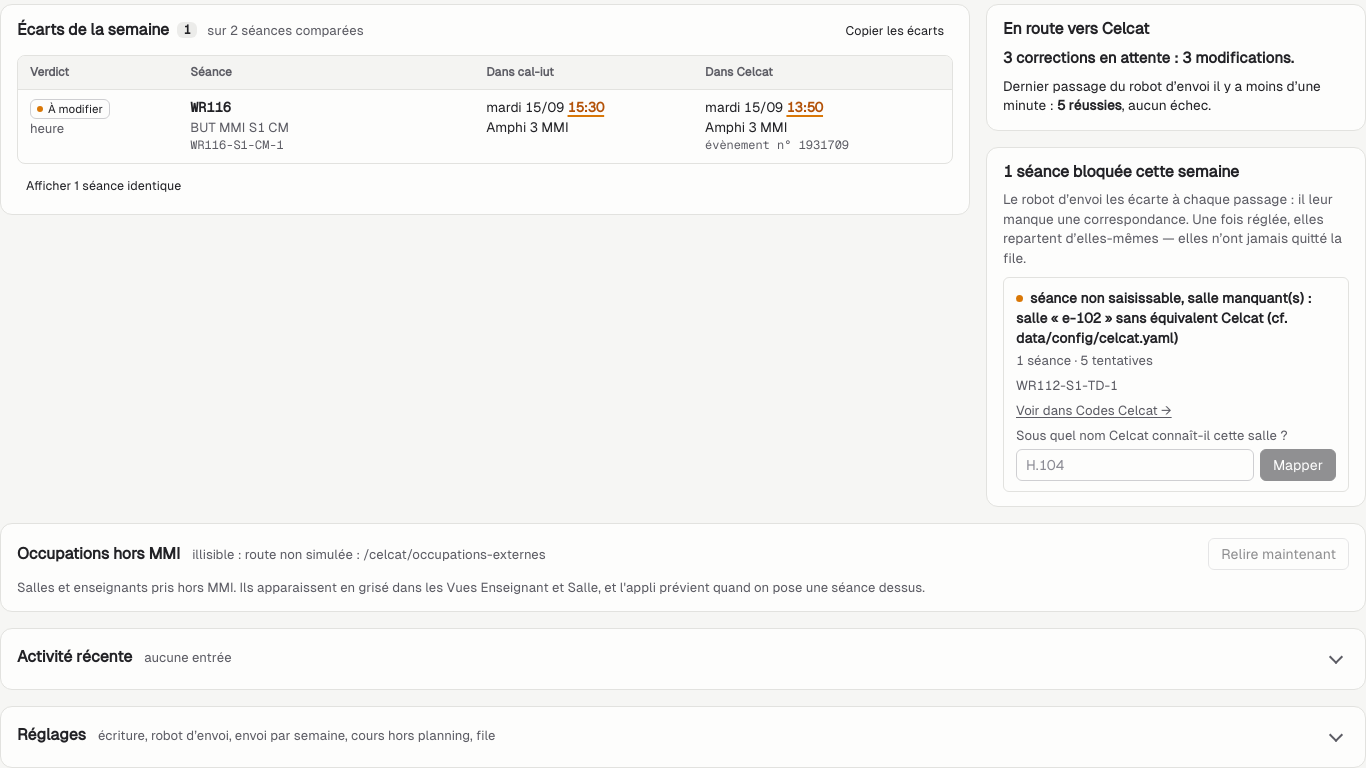
Test: Mapper une correspondance Celcat › montre l'erreur du serveur et laisse le blocage en place s'il refuse
(page scrolled)
Type "?!!" into the field named "équivalent celcat de e-102" at {"x": 1135, "y": 465}, box [1016,449,1254,481]
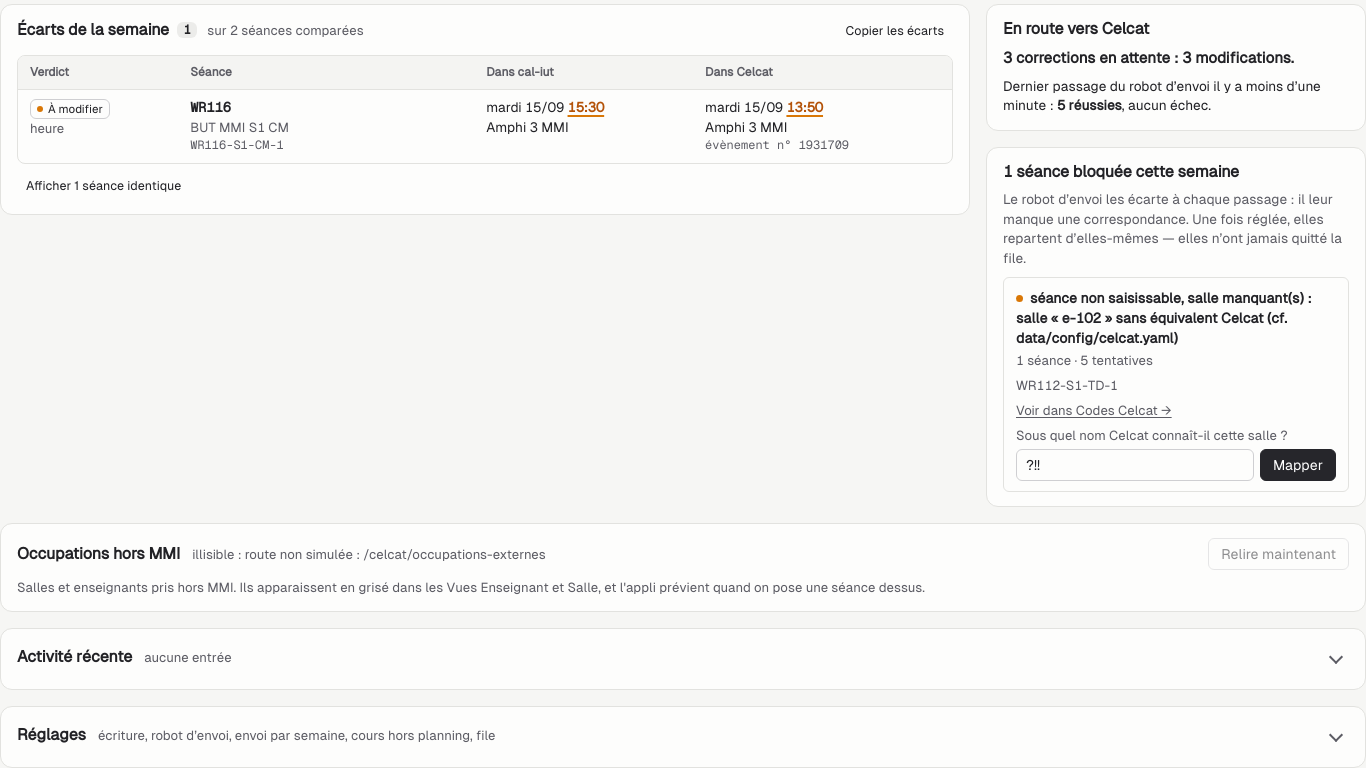
Click the button "Mapper" at {"x": 1298, "y": 465}, box [1260,449,1336,481]
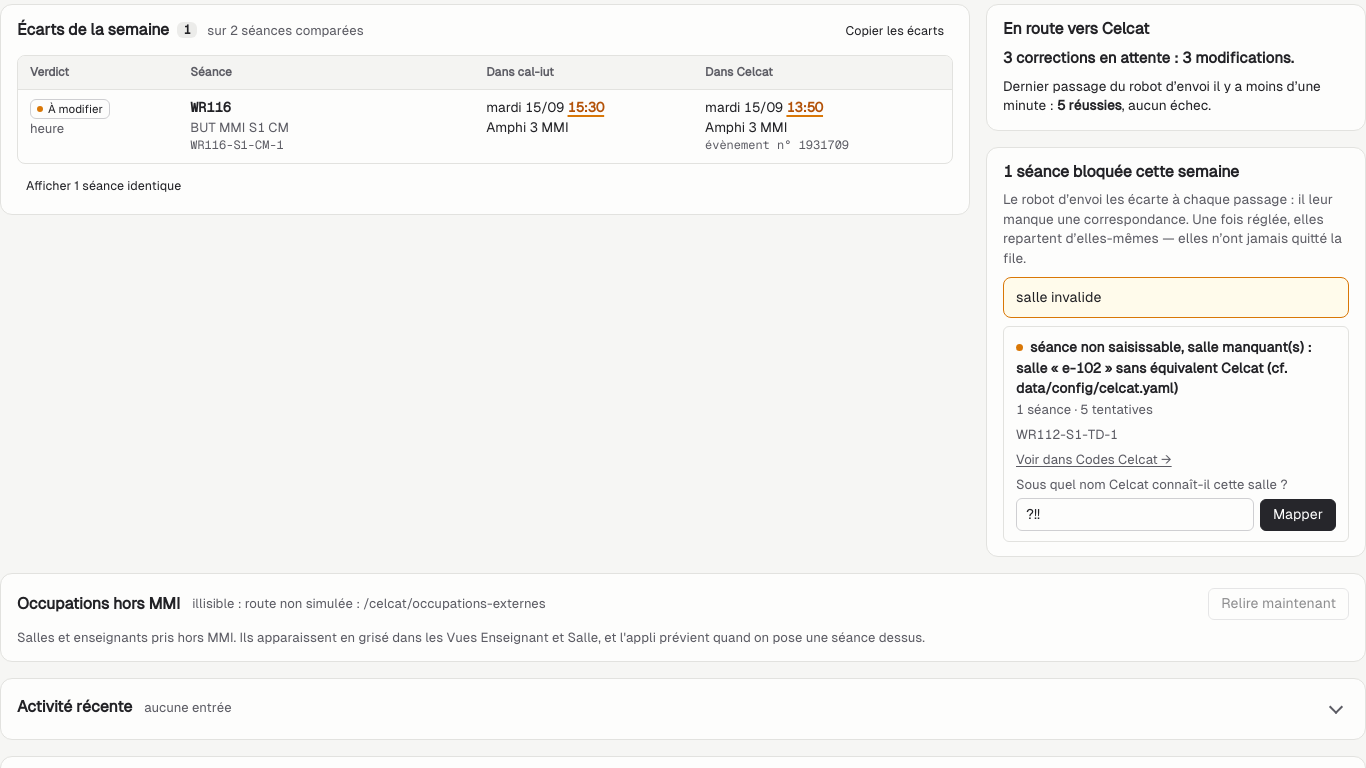
Expected: the list item with test id "blocage-salles" is shown, [1003,326,1349,542]
Now the message reads "salle invalide", box [1016,289,1102,305]
